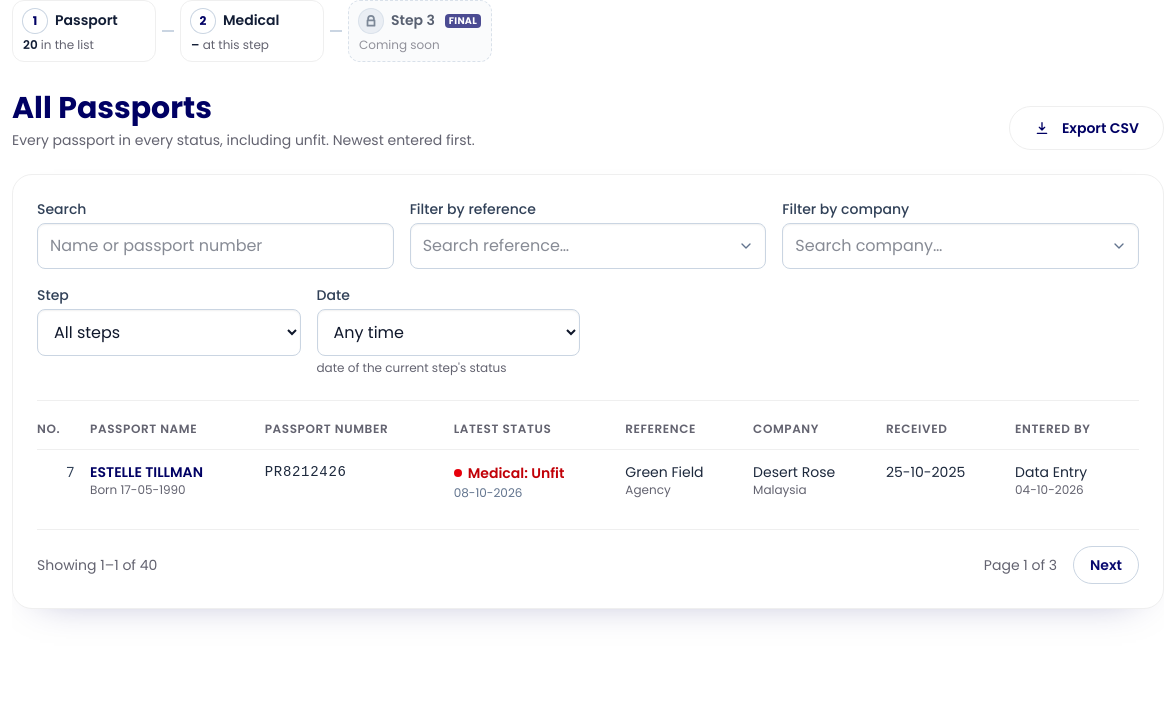
it: All Passports (read-only overview) › Step and date filters › sends the step and the date range (Today / This week / This month end today in Dhaka)
The width and height of the screenshot is (1176, 720).
Select "Medical" in the dropdown labelled "Step" at (169, 332), box [37,309,300,356]
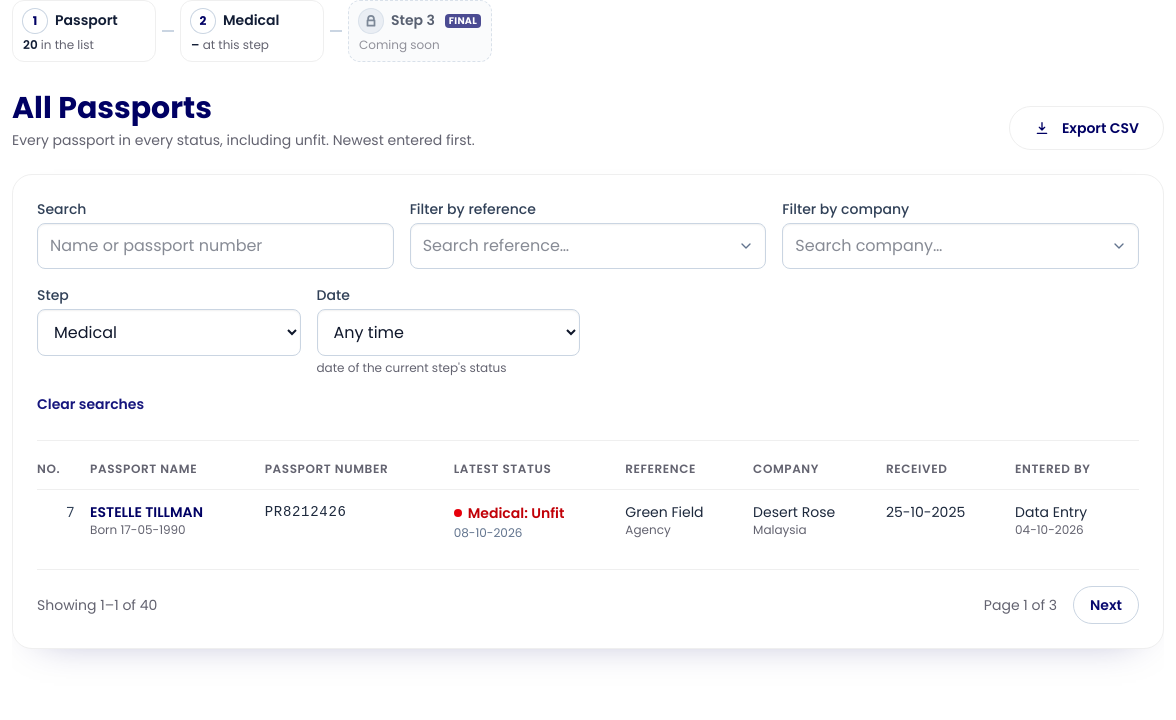
Select "Today" in the dropdown labelled "Date" at (448, 332), box [316,309,580,356]
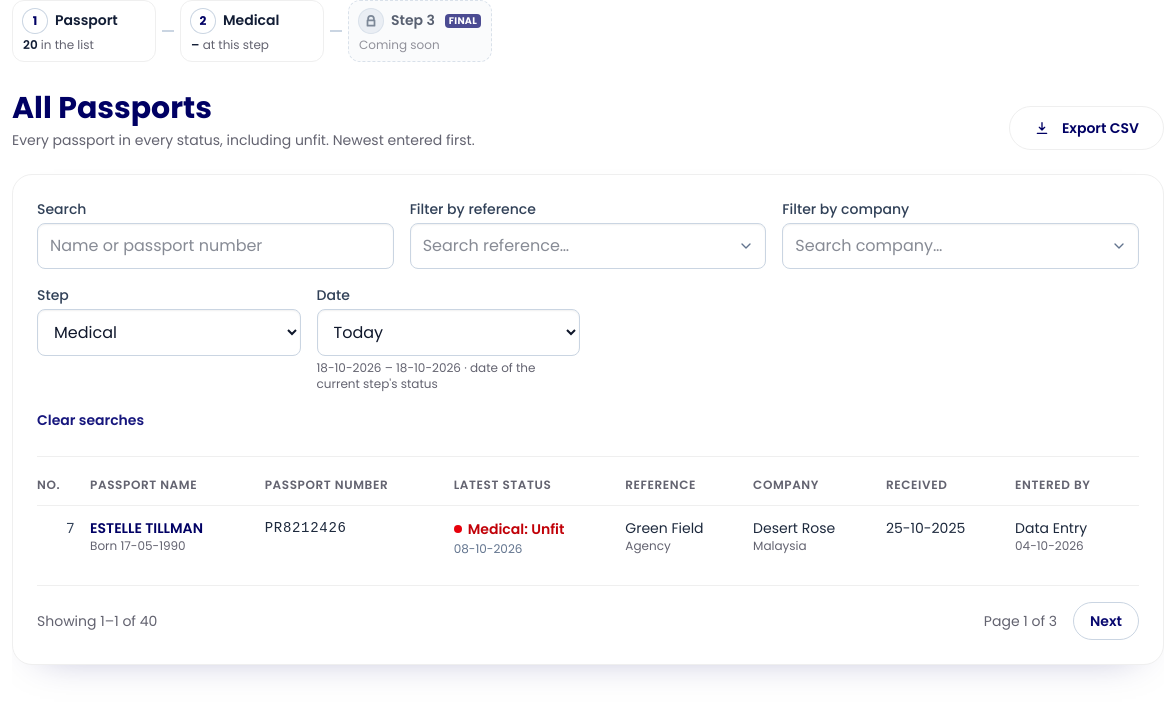
Select "This week" in the dropdown labelled "Date" at (448, 332), box [316,309,580,356]
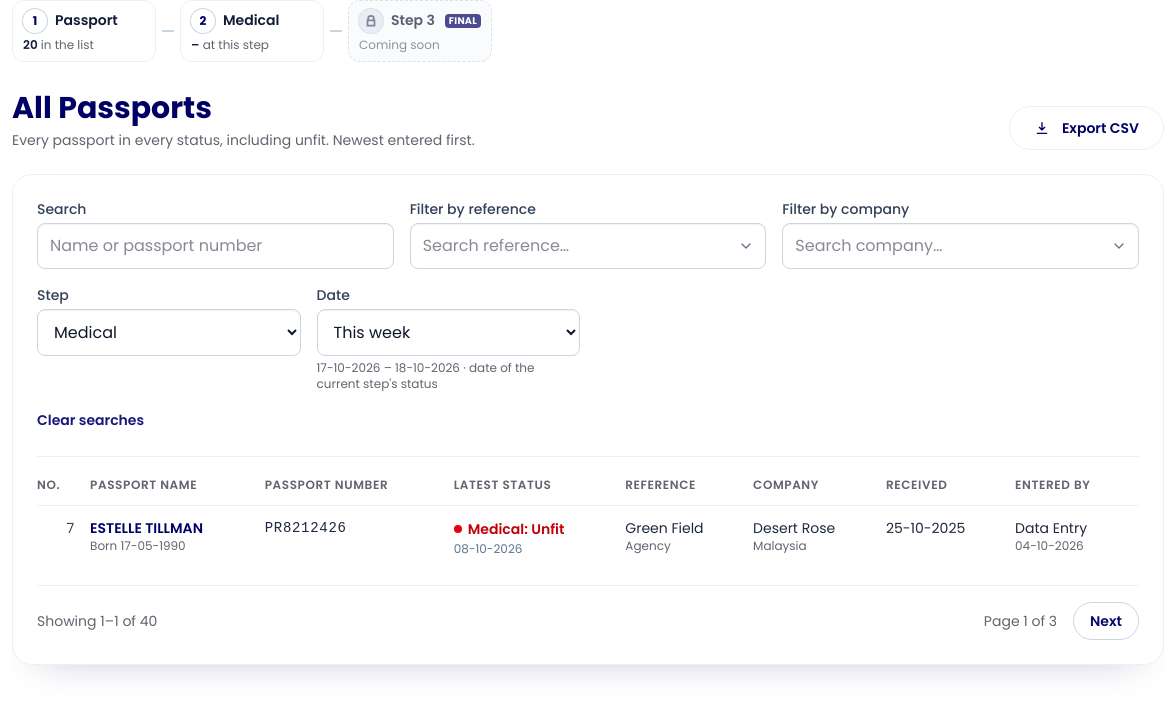
Select "This month" in the dropdown labelled "Date" at (448, 332), box [316,309,580,356]
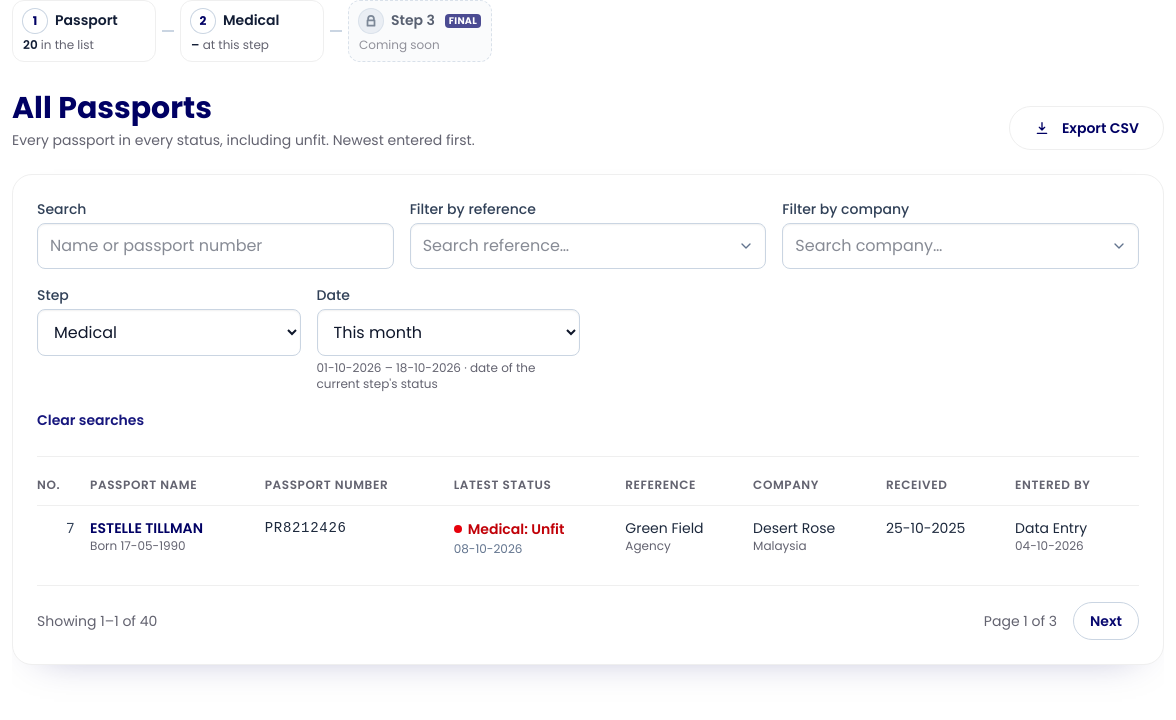
Expected: the text "01-10-2026 – 18-10-2026 · date of the current step's status" is shown, [316,359,536,392]
